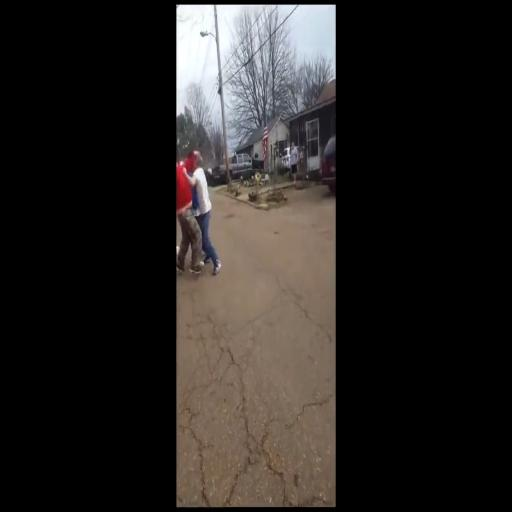violencia: (176, 131, 224, 283)
